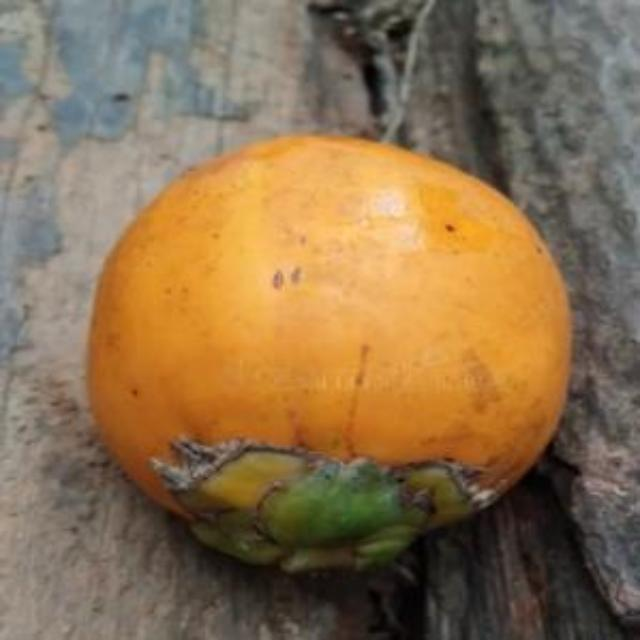good: (86, 135, 574, 576)
